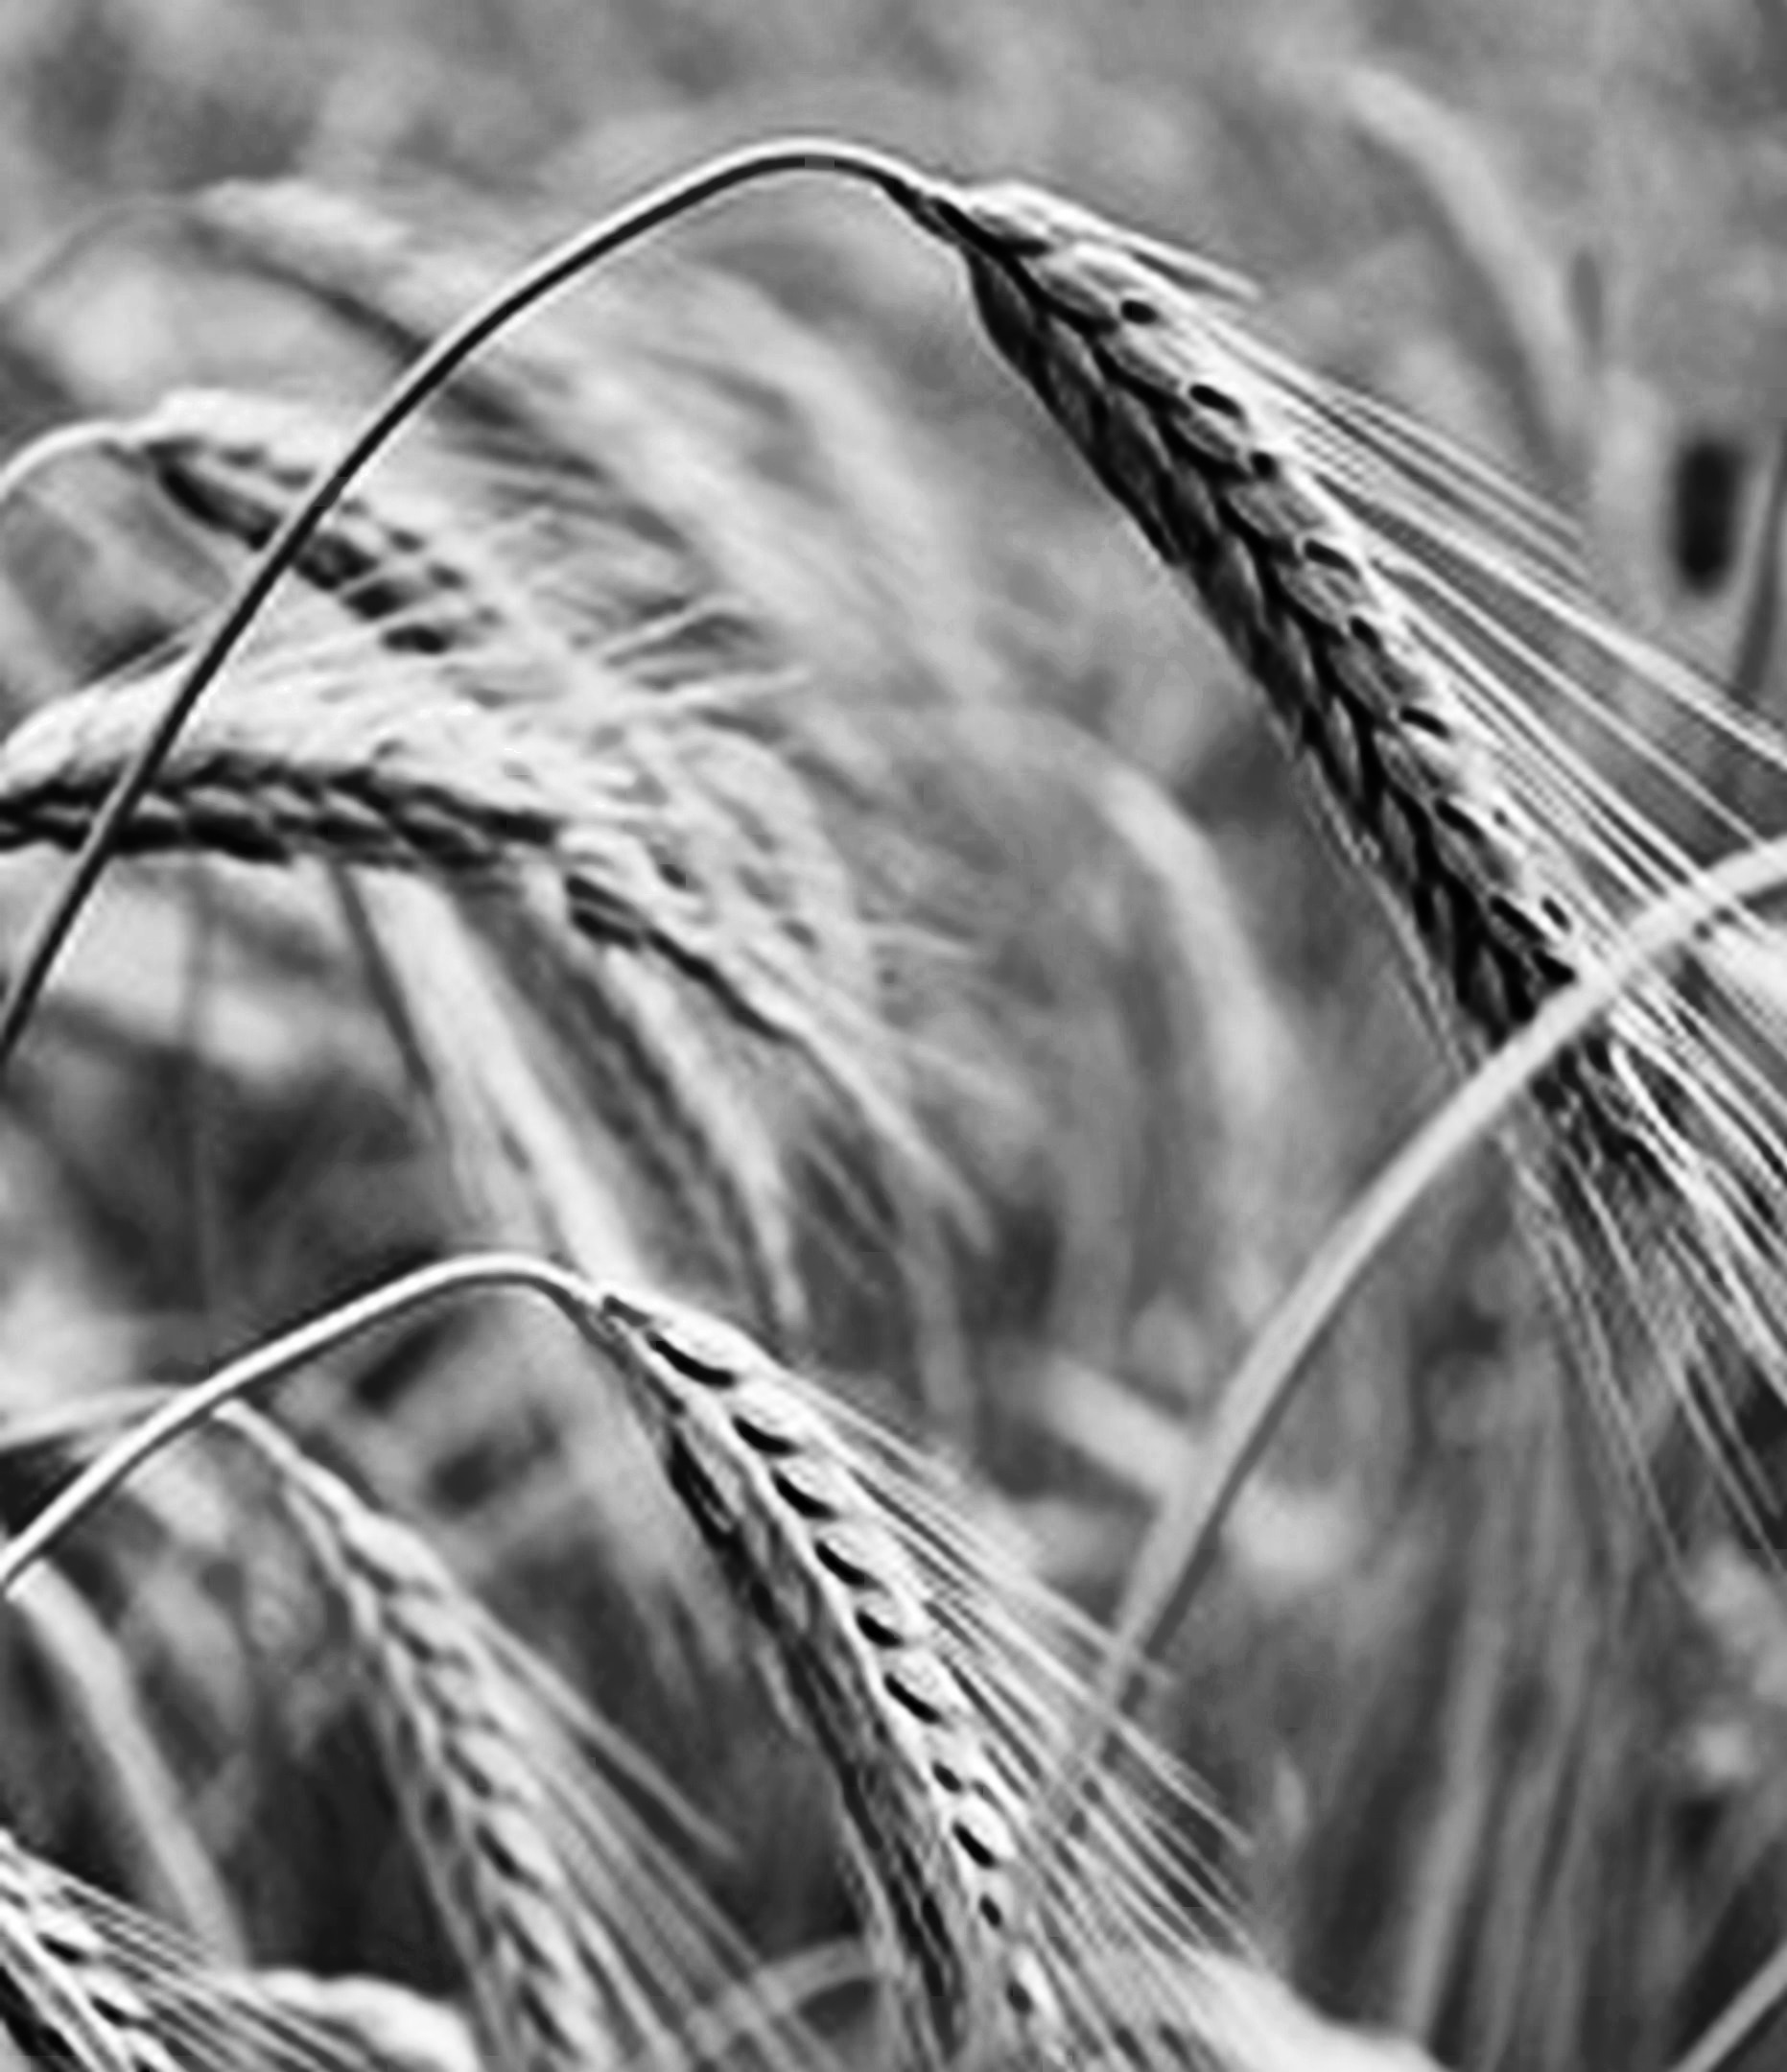Healthy Wheat: (901, 153, 1757, 1256)
